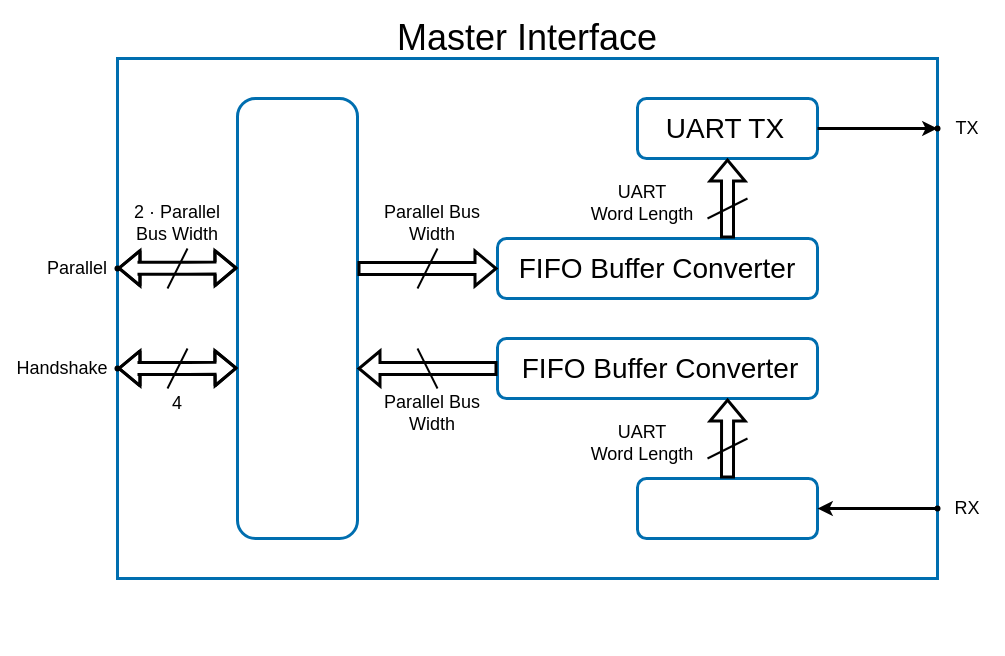
Some shapes in this 1005 by 656 pixel diagram are drawn without their labels. The centre of each missing label's shape, as x and y in pixels:
Parallel Interface: the point at 297,318
UART RX: the point at 727,508
